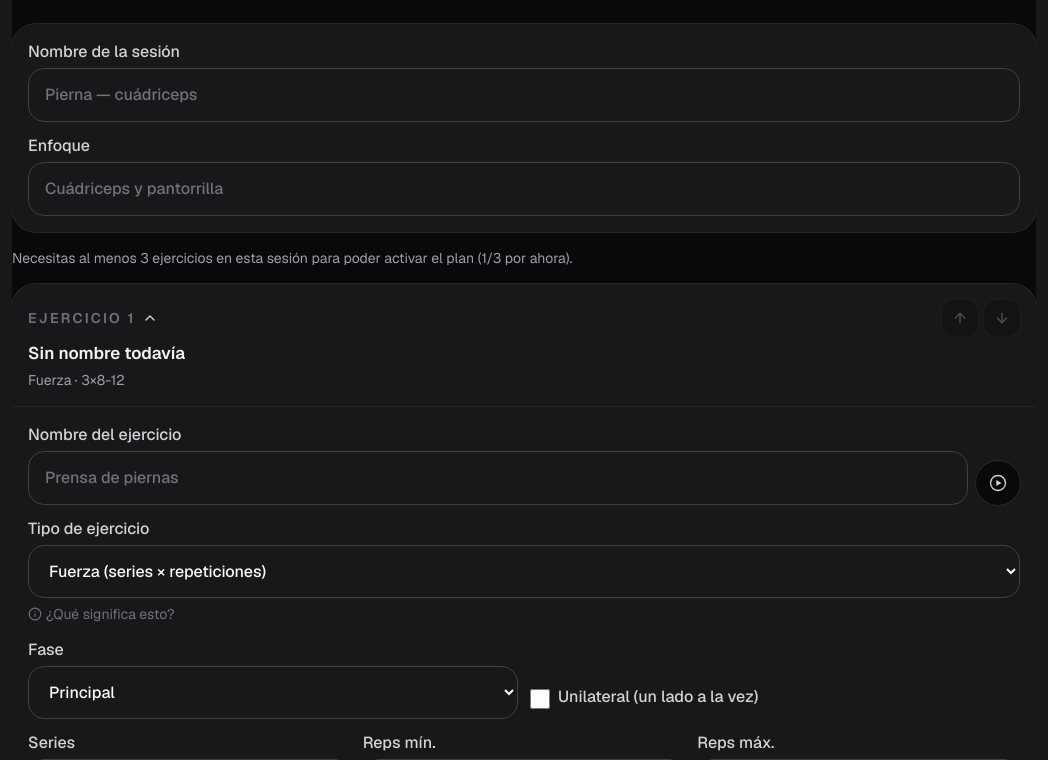
SessionEditorForm › converts the duración value when the unit toggle switches between segundos and minutos
Select "Duración (calentamiento cardio, movilidad)" in the dropdown labelled "Tipo de ejercicio" at (524, 572), box [28, 545, 1020, 598]
(page scrolled)
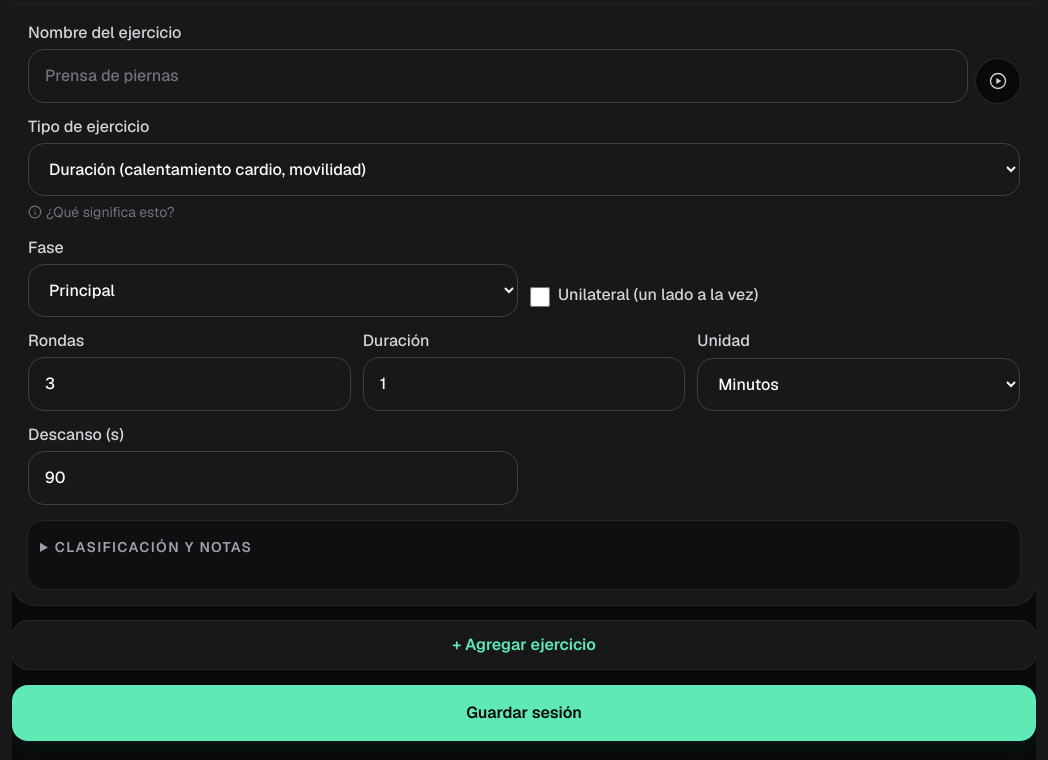
Expected: the dropdown labelled "Unidad" shows "Minutos", [697, 358, 1020, 411]
Expected: the number field labelled "Duración" holds "1"
Replace the text in the number field labelled "Duración" with "5" at (524, 384), box [363, 357, 685, 411]
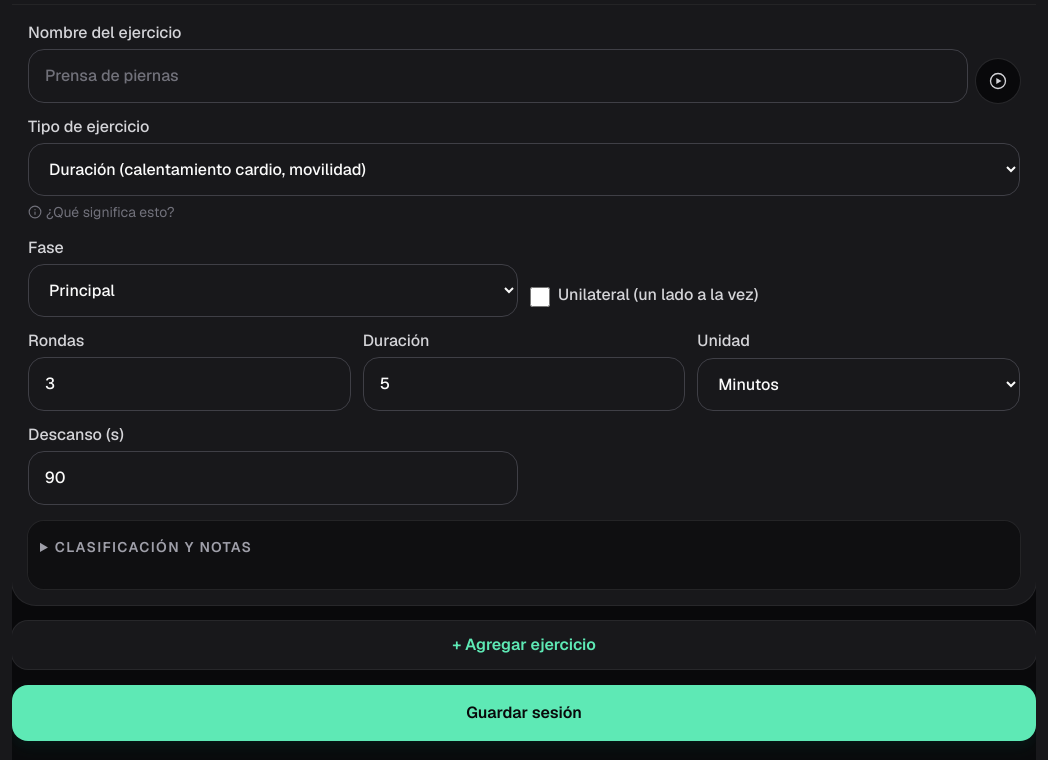
Select "Segundos" in the dropdown labelled "Unidad" at (859, 384), box [697, 358, 1020, 411]
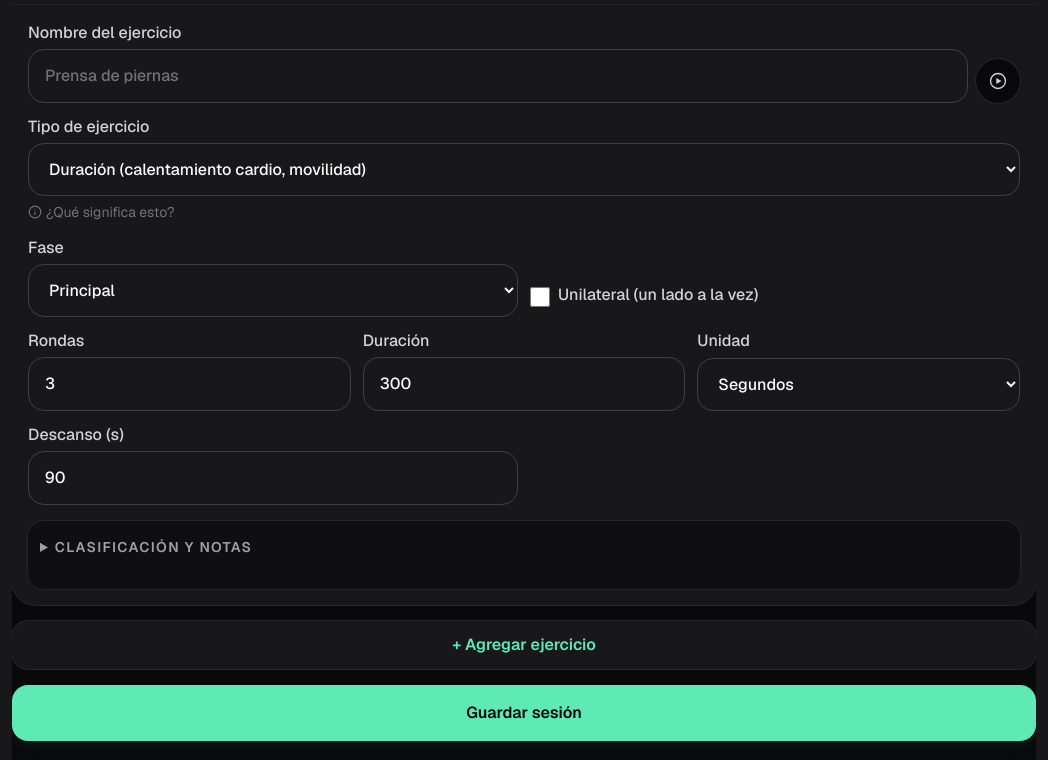
Expected: the element named "exercise-0:durationSeconds" holds "300", [28, 329, 1020, 411]
Expected: the number field labelled "Duración" holds "300", [363, 357, 685, 411]
